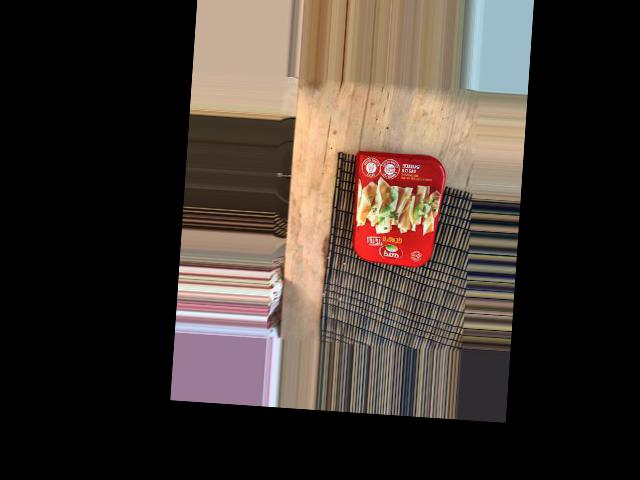cheese: (352, 214, 476, 316)
